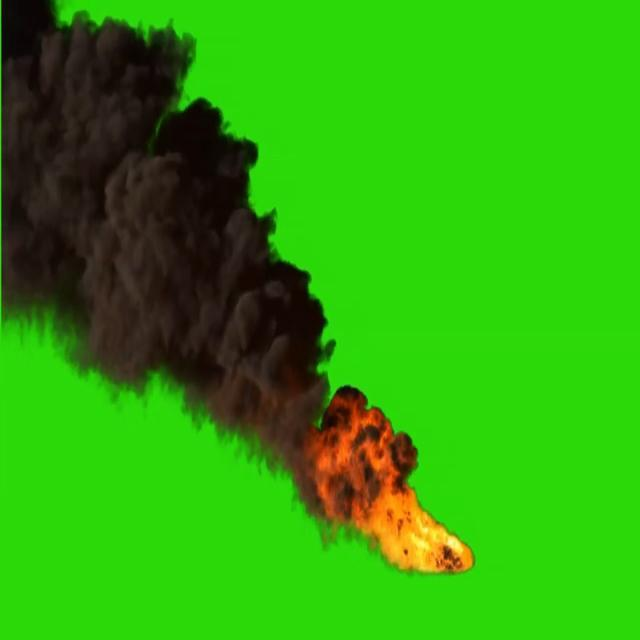Fire: (345, 410, 475, 578)
Smoke: (3, 5, 326, 473)
